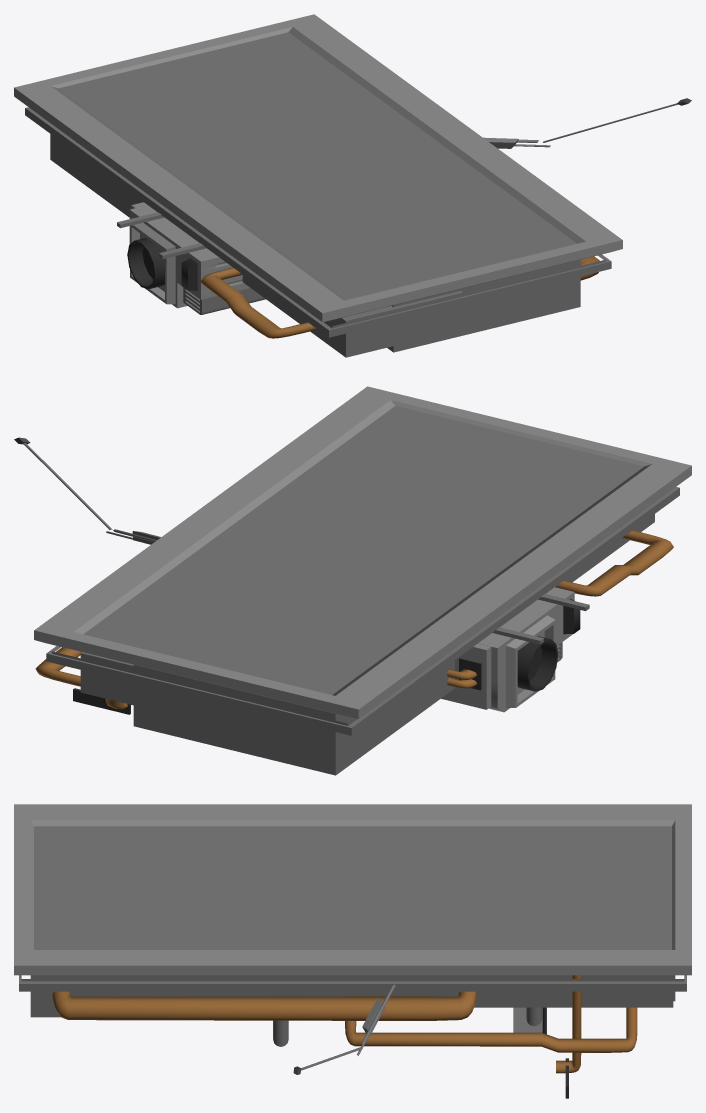
The model's file is platform-long.glb.
The picture shows the model from 3 angles, top to bottom: view 1: azimuth 30°, elevation 25°; view 2: azimuth 150°, elevation 25°; view 3: azimuth 270°, elevation 25°; orthographic projection. The views are drawn at different scales.
Parts seen in each view (by area): view 1: DeckHull; view 2: DeckHull; view 3: DeckHull.
Boxes of the visible parts, bbox=[...] form: DeckHull: bbox=[14, 14, 691, 357]; DeckHull: bbox=[14, 386, 691, 775]; DeckHull: bbox=[14, 804, 691, 1098].
Bounding box in the file's own units: 3.84 × 0.8535 × 3.86.
